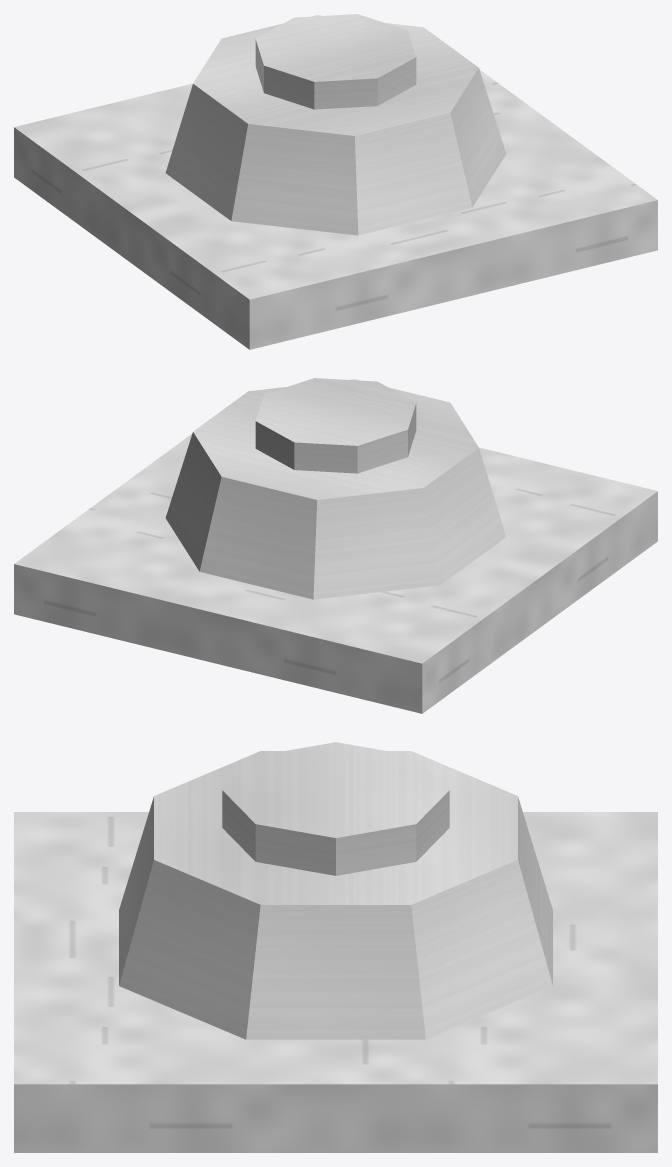
File: turret_sniper.obj
The picture shows the model from 3 angles, top to bottom: view 1: azimuth 30°, elevation 25°; view 2: azimuth 150°, elevation 25°; view 3: azimuth 270°, elevation 25°; orthographic projection. The views are drawn at different scales.
Visible parts, largest first — view 1: turret_sniper; view 2: turret_sniper; view 3: turret_sniper.
Boxes of the visible parts, x1,y1,x2,y2 form: turret_sniper: (14, 14, 657, 349); turret_sniper: (14, 378, 657, 713); turret_sniper: (14, 742, 657, 1152).
Bounding box in the file's own units: 1.7 × 0.66 × 1.7.
